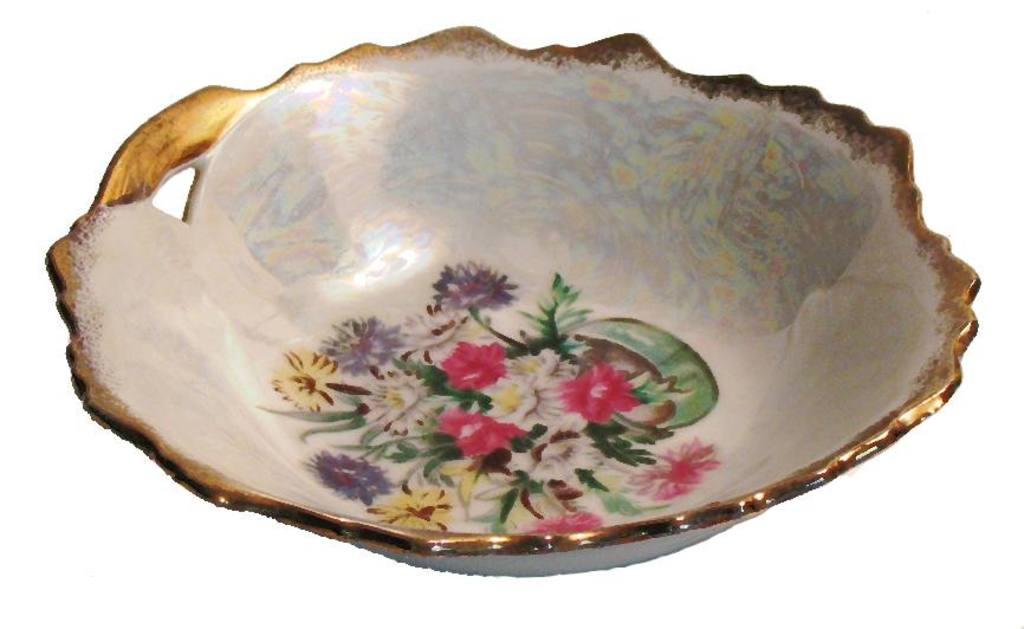plate: (44, 25, 981, 577)
